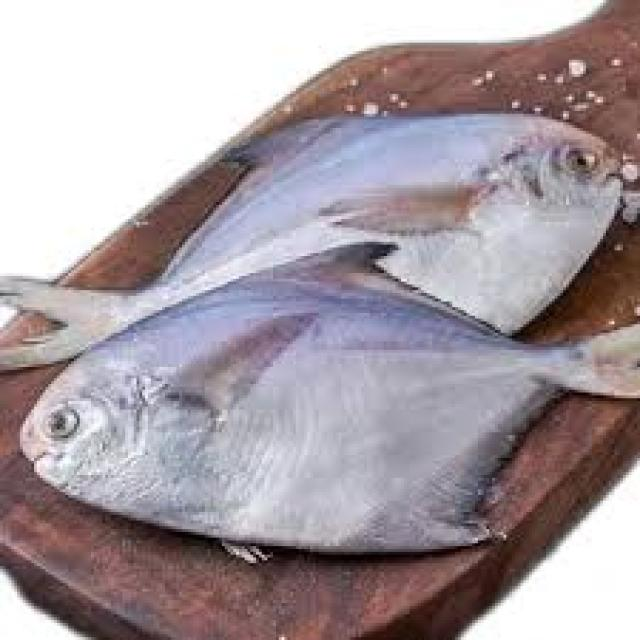pomfred: (22, 245, 637, 553)
